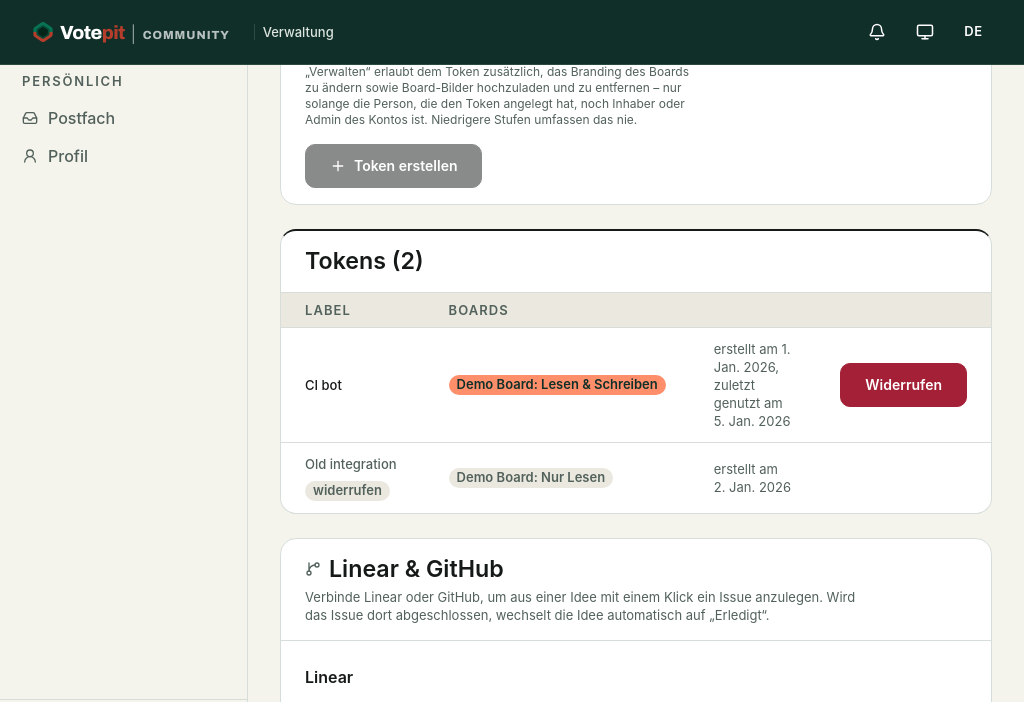
Scenario: ApiTokensPage — revoke › does nothing if the confirm dialog is dismissed
(page scrolled)
Click the button named "Token „CI bot\" widerrufen" at (904, 385), box [840, 363, 967, 407]
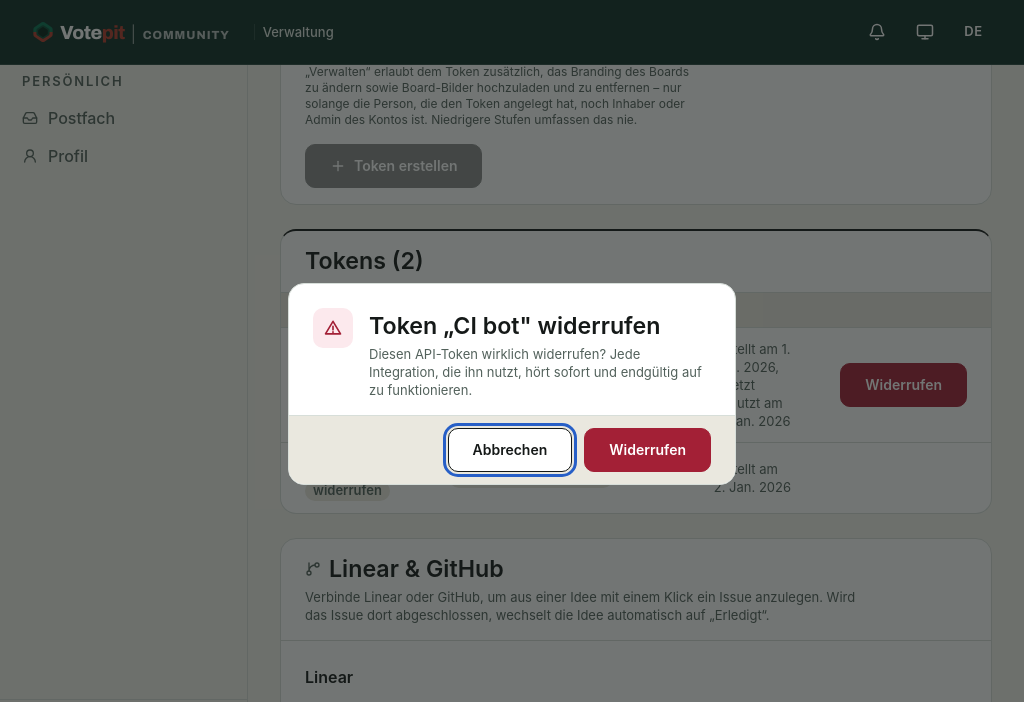
Click the button "Abbrechen" at (510, 450), box [448, 428, 572, 472]
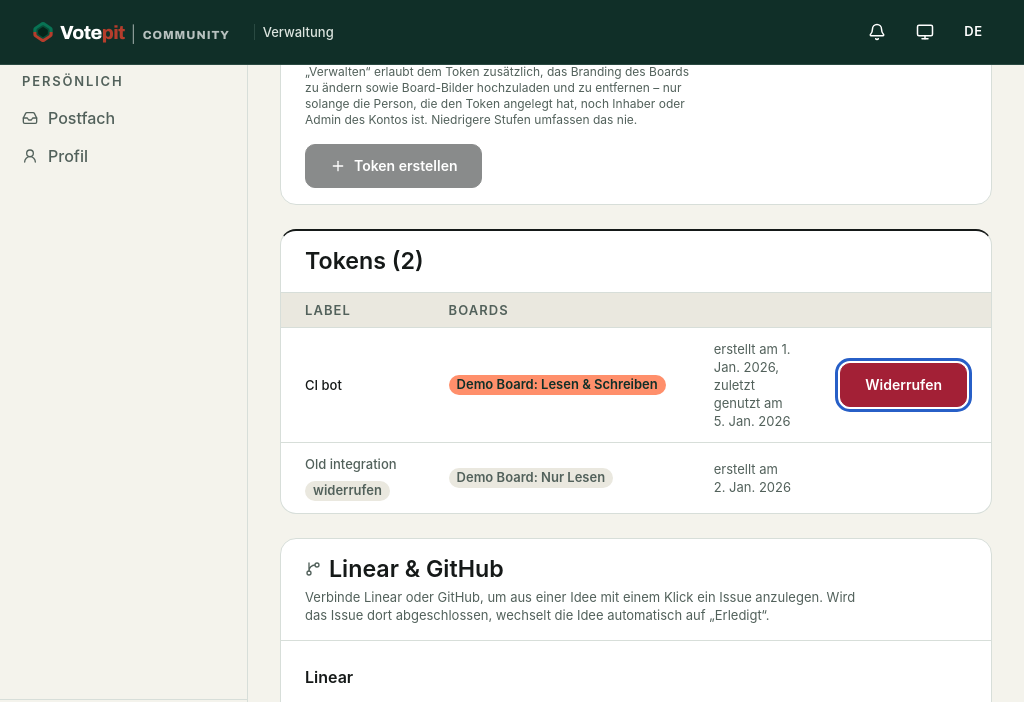
Expected: the button named "Token „CI bot\" widerrufen" is shown, [840, 363, 967, 407]
Expected: the dialog is gone
